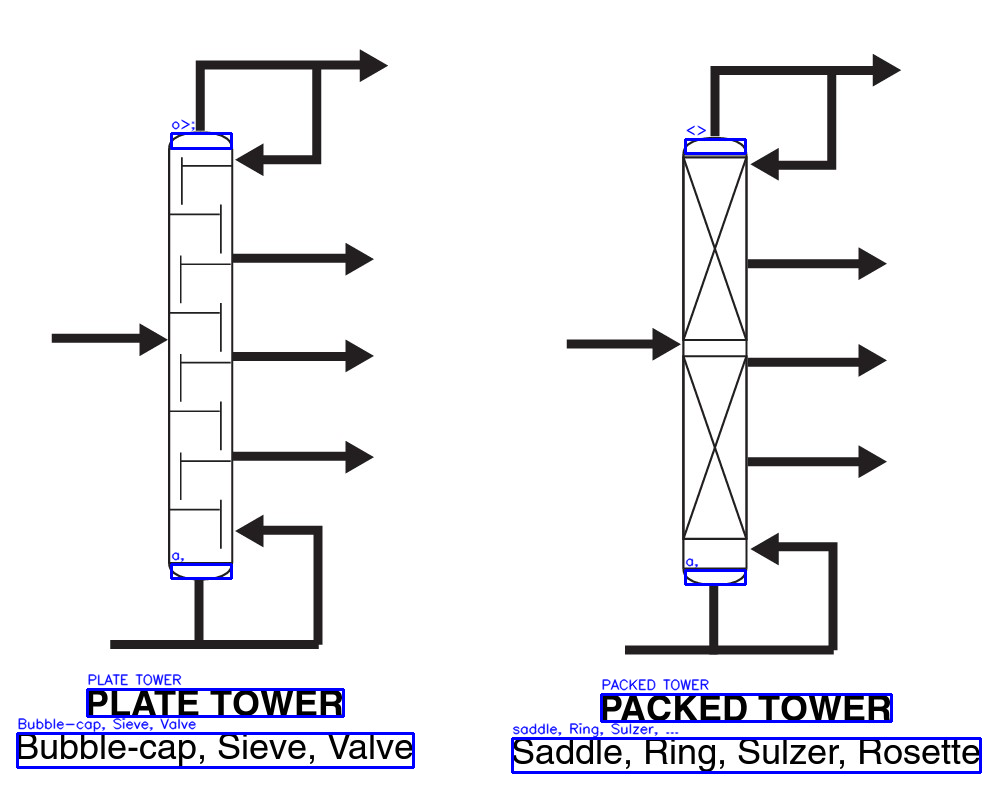Outro: (43, 22, 400, 661), (558, 47, 906, 661)
